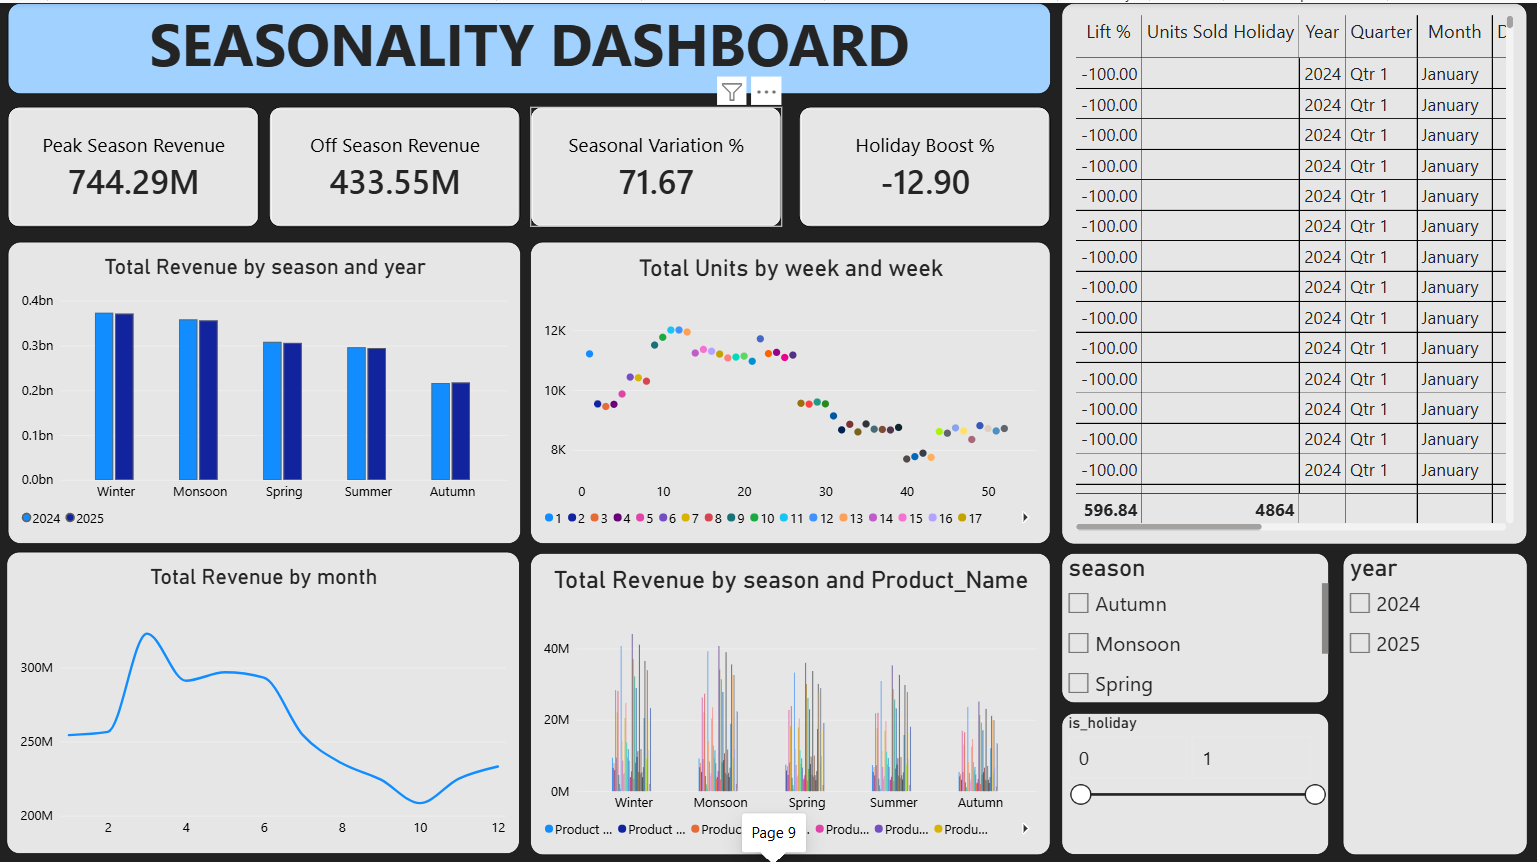

The dashboard page shown, as its layout file describes it:
{"tool":"powerbi","page":{"name":"Page 9","canvas":[1920,1080],"ordinal":7},"visuals":[{"type":"textbox","box":[10.5,0,1301.2,113.4],"z":0},{"type":"cardVisual","fields":{"Data":["_Measures.Peak Season Revenue"]},"box":[10.5,129.1,314,150],"z":1},{"type":"cardVisual","fields":{"Data":["_Measures.Off Season Revenue"]},"box":[336.6,129.1,314,150],"z":2},{"type":"cardVisual","fields":{"Data":["_Measures.Seasonal Variation %"]},"box":[662.8,129.1,314,150],"z":3},{"type":"cardVisual","fields":{"Data":["_Measures.Holiday Boost %"]},"box":[997.7,129.1,314,150],"z":4},{"type":"clusteredColumnChart","fields":{"Category":["calendar (2).season"],"Series":["calendar (2).year"],"Y":["_Measures.Total Revenue"]},"box":[10.5,298.3,640.1,376.7],"z":5},{"type":"lineChart","fields":{"Category":["calendar (2).month"],"Y":["_Measures.Total Revenue"]},"box":[10,685,640,377],"z":6},{"type":"areaChart","fields":{"Category":["calendar (2).week"],"Series":["calendar (2).week"],"Y":["_Measures.Total Units"]},"box":[662.8,298.3,648.8,376.7],"z":7},{"type":"clusteredColumnChart","fields":{"Category":["calendar (2).season"],"Series":["sku_master (2).Product_Name"],"Y":["_Measures.Total Revenue"]},"box":[662.8,685.5,648.8,376.7],"z":8},{"type":"tableEx","fields":{"Values":["_Measures.Lift %","_Measures.Units Sold Holiday","calendar (2).date.Variation.Date Hierarchy.Year","calendar (2).date.Variation.Date Hierarchy.Quarter","calendar (2).date.Variation.Date Hierarchy.Month","calendar (2).date.Variation.Date Hierarchy.Day","calendar (2).holiday","_Measures.Holiday Revenue","_Measures.Avg Non-Holiday Revenue Per Day"]},"box":[1325.6,0,580.8,675],"z":9},{"type":"slicer","fields":{"Values":["calendar (2).season"]},"box":[1325.6,685.4,333.4,187.3],"z":10},{"type":"slicer","fields":{"Values":["calendar (2).year"]},"box":[1675.5,685.4,230.5,376.7],"z":11},{"type":"slicer","fields":{"Values":["calendar (2).is_holiday"]},"box":[1325.6,885.1,333.4,177],"z":12}]}

Visuals, with their boxes in screenshot pixels (x1, y1, x2, y2), scaled from the page's 1920x1080 canvas onto the 1537x862 screenshot:
textbox: [8, 0, 1050, 91]
cardVisual - _Measures.Peak Season Revenue: [8, 103, 260, 223]
cardVisual - _Measures.Off Season Revenue: [269, 103, 521, 223]
cardVisual - _Measures.Seasonal Variation %: [531, 103, 782, 223]
cardVisual - _Measures.Holiday Boost %: [799, 103, 1050, 223]
clusteredColumnChart - calendar (2).season x calendar (2).year: [8, 238, 521, 539]
lineChart - calendar (2).month x _Measures.Total Revenue: [8, 547, 520, 848]
areaChart - calendar (2).week x calendar (2).week: [531, 238, 1050, 539]
clusteredColumnChart - calendar (2).season x sku_master (2).Product_Name: [531, 547, 1050, 848]
tableEx - _Measures.Lift % x _Measures.Units Sold Holiday: [1061, 0, 1526, 539]
slicer - calendar (2).season: [1061, 547, 1328, 697]
slicer - calendar (2).year: [1341, 547, 1526, 848]
slicer - calendar (2).is_holiday: [1061, 706, 1328, 848]
